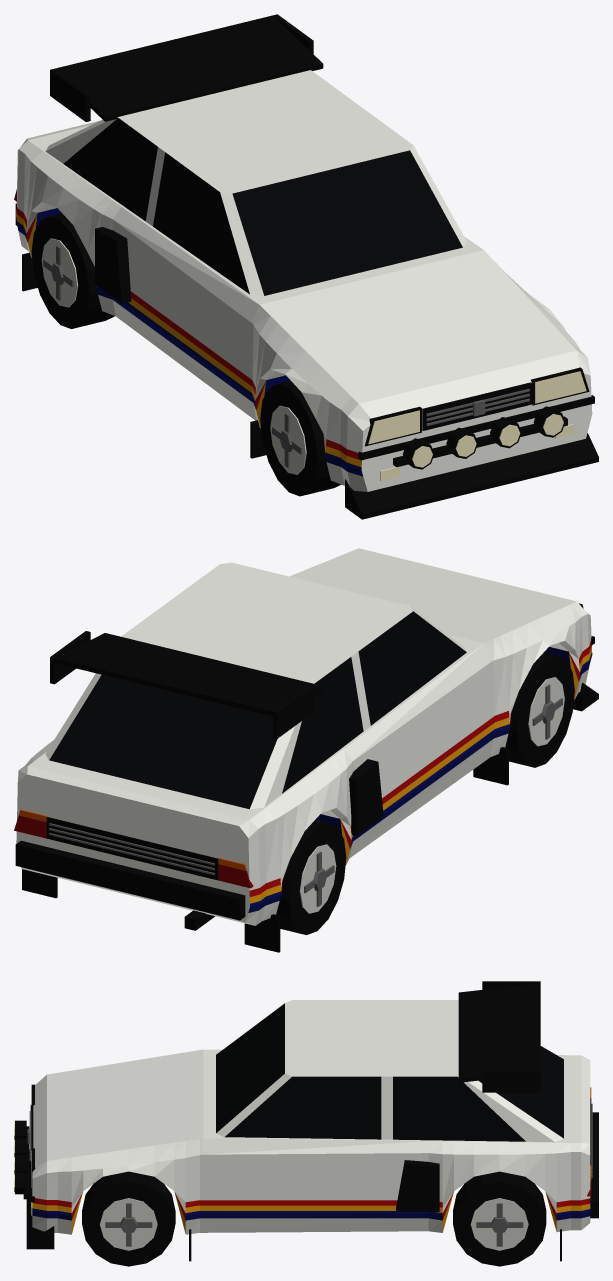
Rendered from peugeot-205-t16.glb.
3 views of the same model, one above another, from view 1: azimuth 30°, elevation 25°; view 2: azimuth 150°, elevation 25°; view 3: azimuth 270°, elevation 25° (orthographic). The views are drawn at different scales.
Parts seen in each view (by area): view 1: body, cabin, cabin-body, wing, splitter, wheel-back-right, wheel-front-right, side-intake-right, body-blue, grille, body-yellow, body-red (+7 smaller); view 2: body, cabin, cabin-body, wing, bumper-rear, wheel-back-right, wheel-front-right, tail-band, body-blue, side-intake-right, body-yellow, body-red (+8 smaller); view 3: body, cabin, cabin-body, wing, wheel-back-left, wheel-front-left, body-blue, body-yellow, side-intake-left, body-red, rim-front-left, rim-back-left (+3 smaller).
Boxes of the visible parts, x1,y1,x2,y2 form: body: [16, 120, 592, 491]; cabin: [63, 118, 462, 295]; cabin-body: [45, 70, 466, 295]; wing: [55, 15, 323, 121]; splitter: [345, 433, 598, 519]; wheel-back-right: [31, 213, 114, 328]; wheel-front-right: [260, 381, 340, 496]; side-intake-right: [95, 227, 131, 303]; body-blue: [16, 208, 363, 476]; grille: [422, 382, 532, 430]; body-yellow: [16, 210, 361, 467]; body-red: [16, 204, 361, 460]; body: [16, 548, 591, 925]; cabin: [49, 611, 466, 809]; cabin-body: [45, 562, 466, 809]; wing: [54, 633, 323, 716]; bumper-rear: [15, 840, 245, 920]; wheel-back-right: [276, 819, 346, 934]; wheel-front-right: [505, 652, 574, 767]; tail-band: [46, 817, 218, 880]; body-blue: [248, 647, 592, 912]; side-intake-right: [349, 759, 383, 835]; body-yellow: [250, 645, 591, 903]; body-red: [249, 640, 591, 896]; body: [32, 1049, 590, 1234]; cabin: [216, 1003, 563, 1141]; cabin-body: [216, 1000, 563, 1142]; wing: [458, 983, 540, 1082]; wheel-back-left: [453, 1171, 546, 1266]; wheel-front-left: [82, 1171, 175, 1266]; body-blue: [32, 1208, 590, 1220]; body-yellow: [32, 1192, 590, 1234]; side-intake-left: [396, 1160, 439, 1211]; body-red: [32, 1192, 590, 1220]; rim-front-left: [100, 1198, 157, 1250]; rim-back-left: [470, 1198, 528, 1250].
Size of the model in its own units: 1.7 by 1.43 by 4.01.
